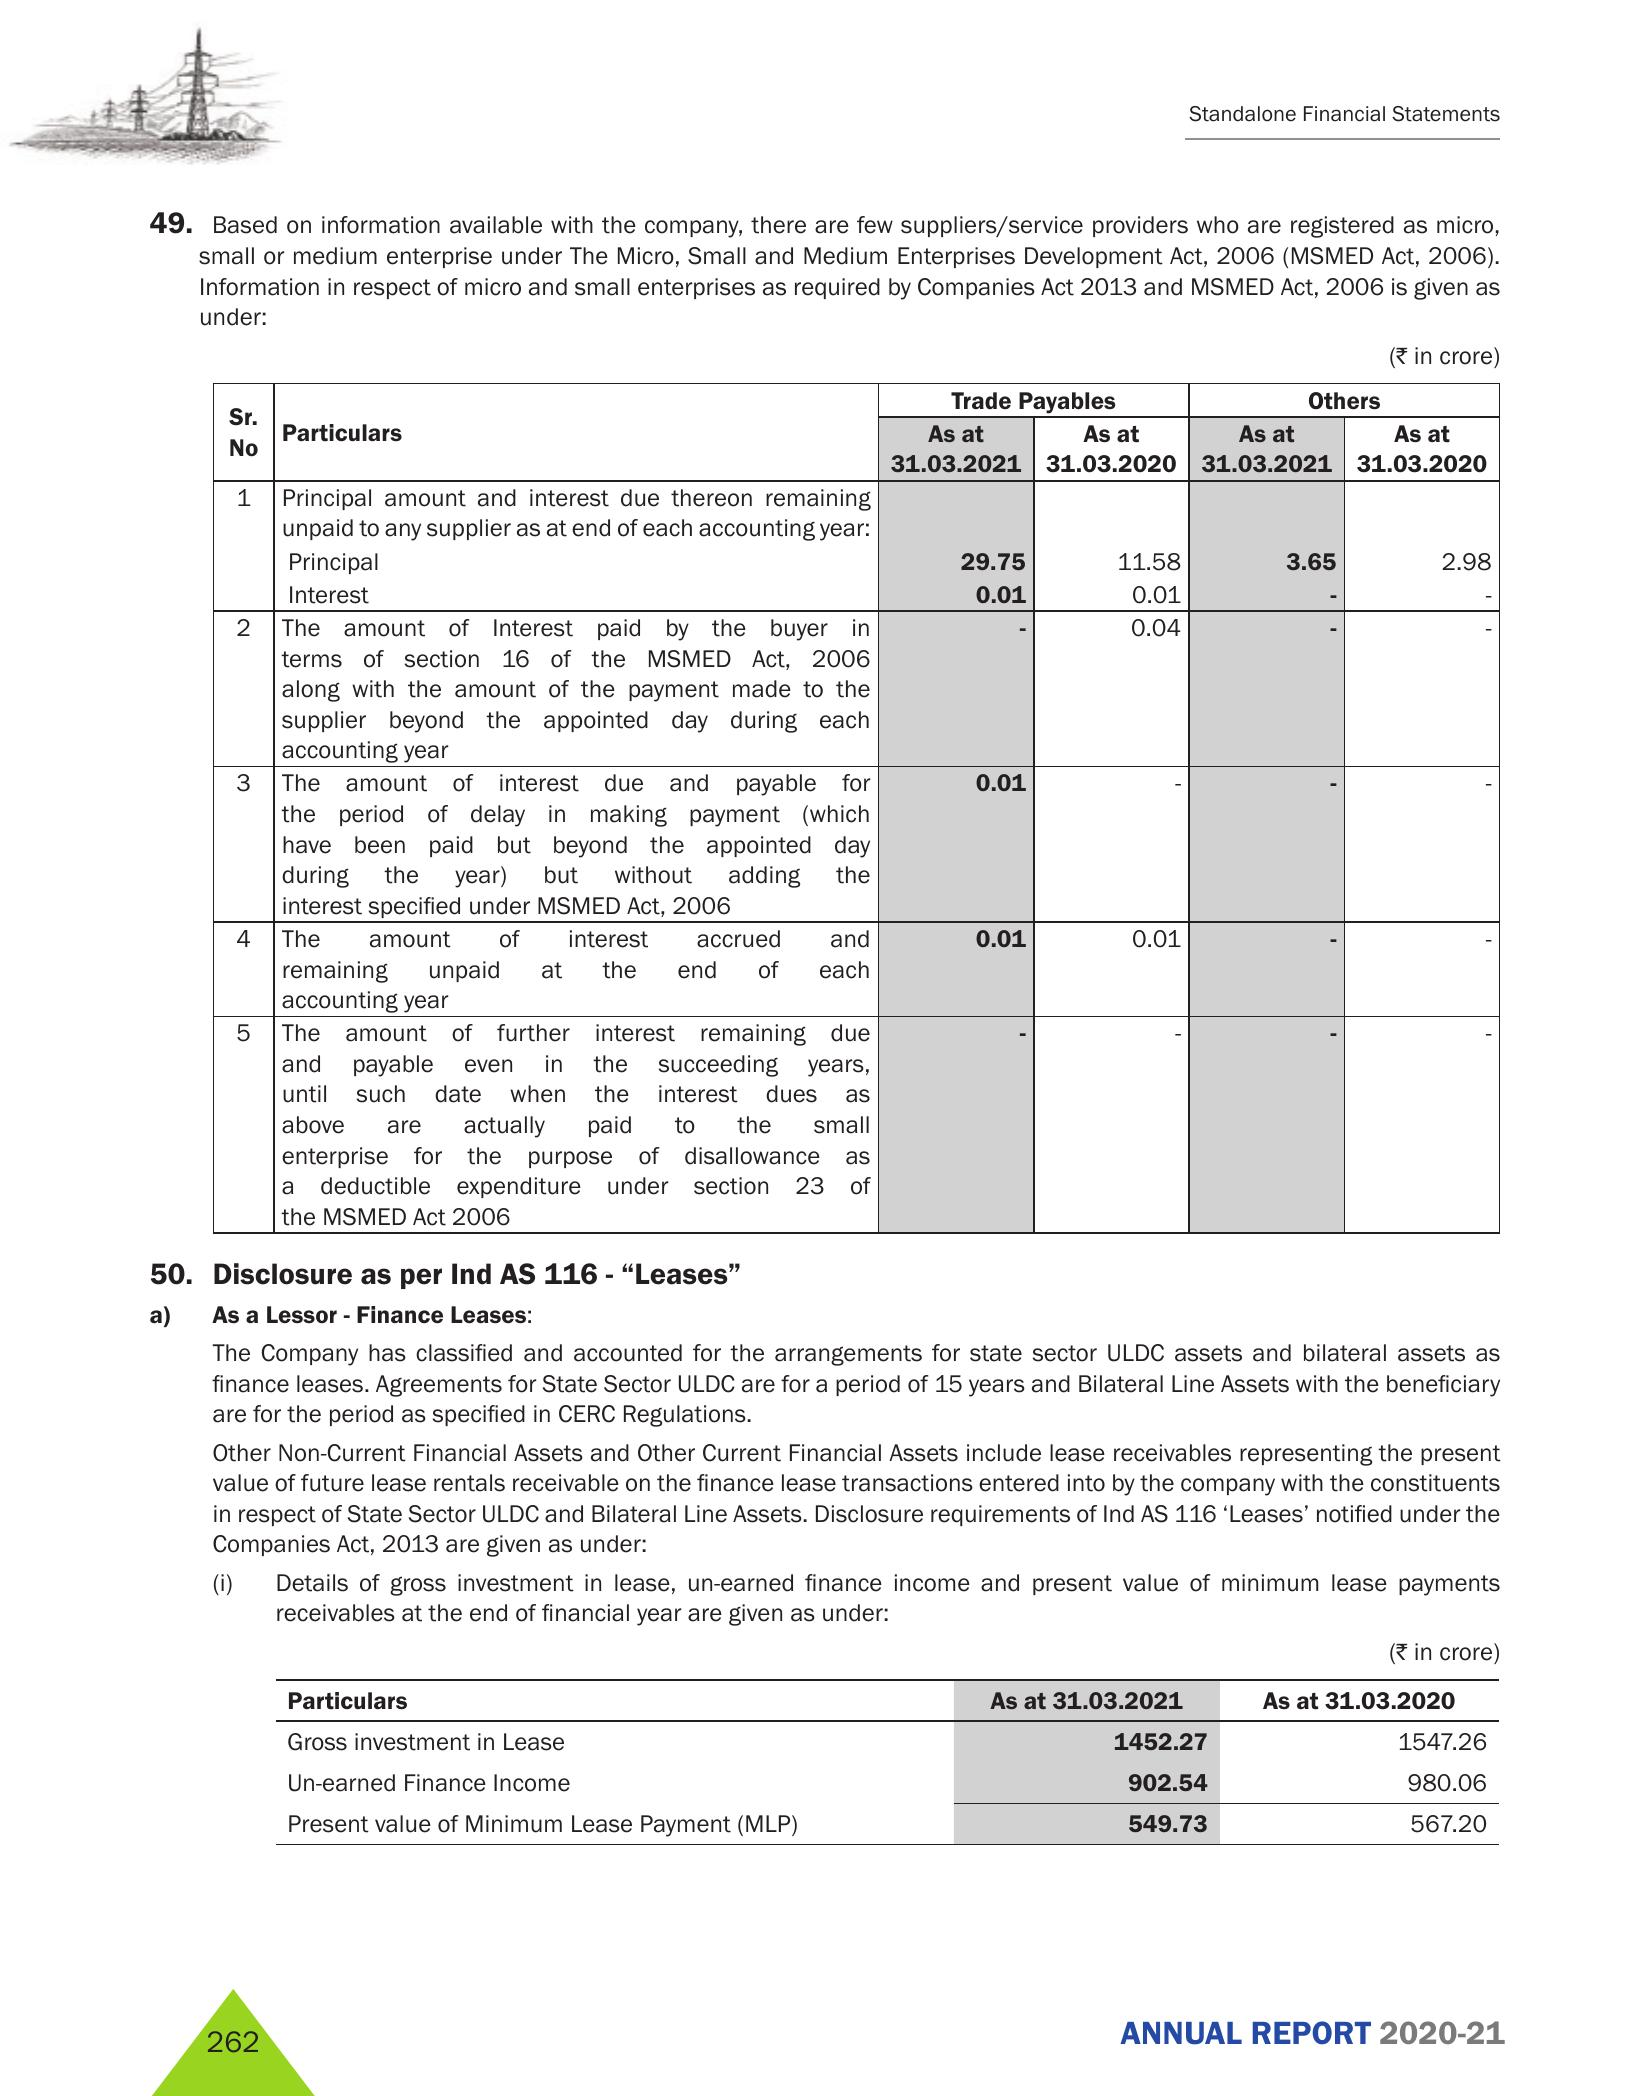Footer: (0, 1962, 1650, 2096)
Header: (0, 0, 1650, 189)
Table: (204, 376, 1511, 1233), (242, 1671, 1499, 1866)
